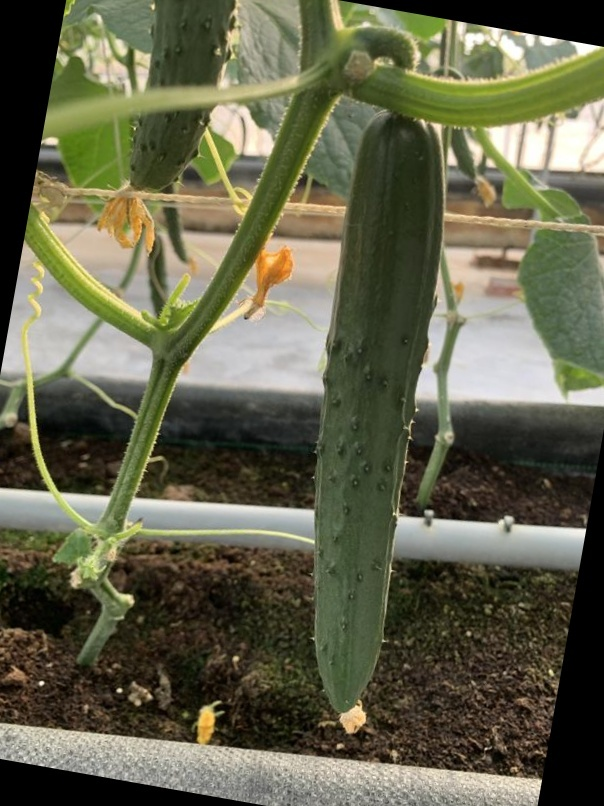mature: (296, 132, 456, 710)
